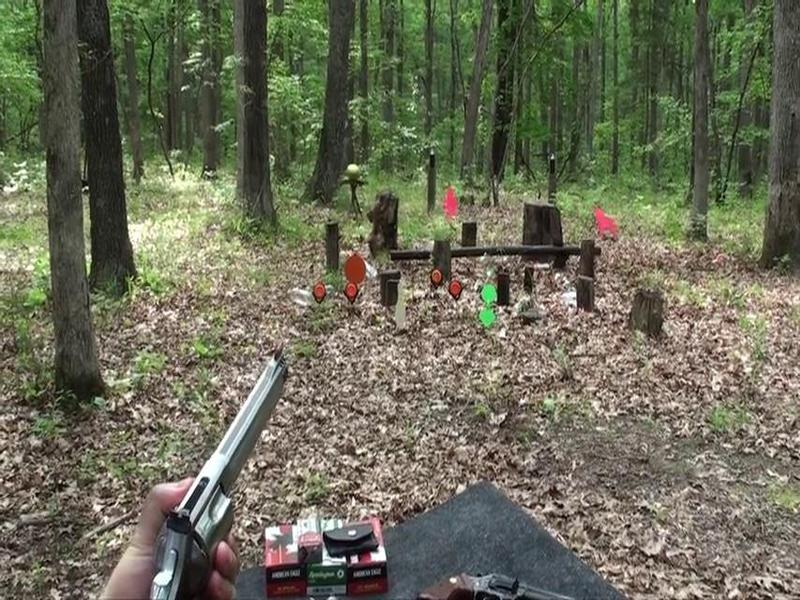Revolver: (150, 326, 309, 600)
